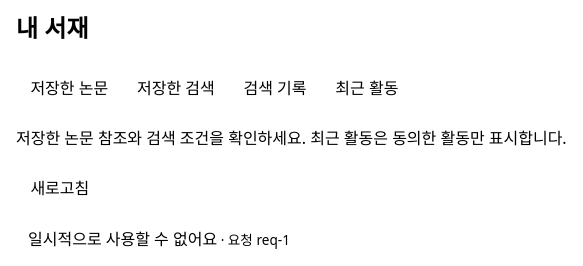
U2 Library controls › shows failed reads separately from an empty list and can refresh
Expected: the message "일시적으로 사용할 수 없어요 · 요청 req-1" is shown, top-left (28, 228), bottom-right (290, 250)
Click the button with test id "library-refresh" at (60, 189), box top-left (16, 167), bottom-right (104, 211)
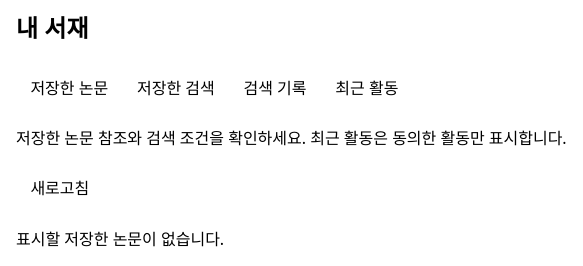
Result: the text "표시할 저장한 논문이 없습니다." is shown at top-left (16, 228), bottom-right (224, 250)
Result: the message "일시적으로 사용할 수 없어요· 요청 req-1" is gone
